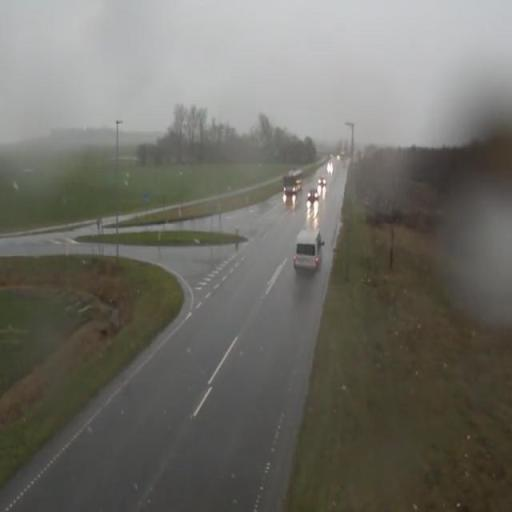小汽车: (290, 222, 325, 274), (282, 168, 304, 196)
